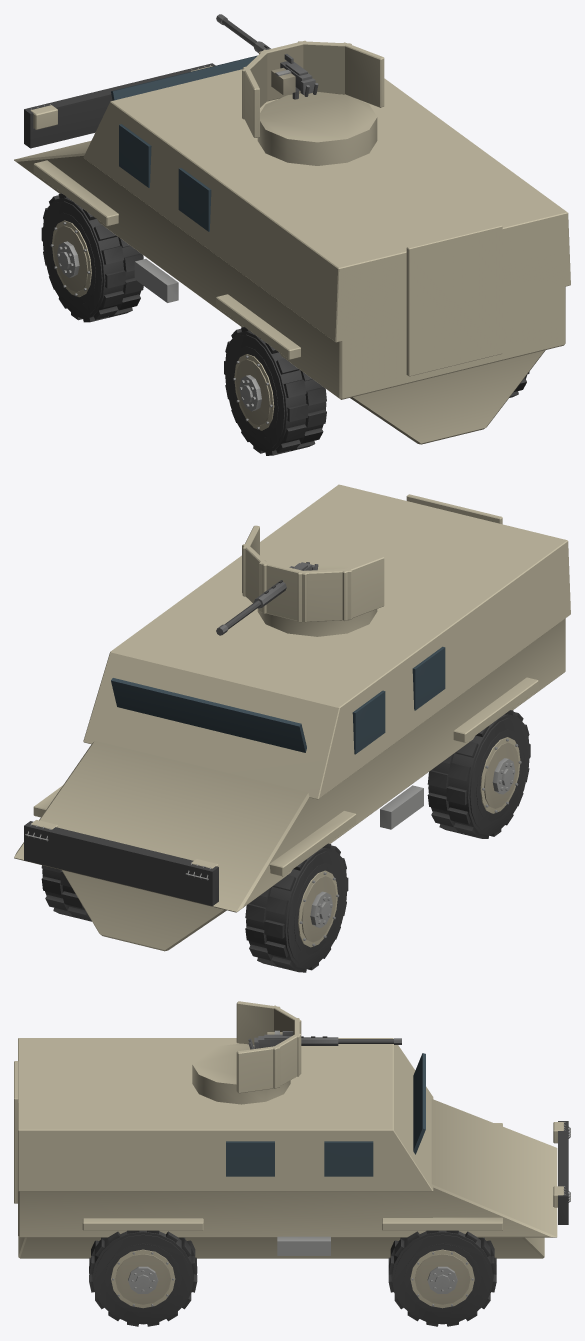
The model's file is usa_mrap_rg33.glb.
3 renders of one model, top to bottom at view 1: azimuth 30°, elevation 25°; view 2: azimuth 150°, elevation 25°; view 3: azimuth 270°, elevation 25°, orthographic. The views are drawn at different scales.
Parts seen in each view (by area): view 1: body, turret, wheel_2, wheel_0, barrel; view 2: body, turret, wheel_0, wheel_2, wheel_1, barrel; view 3: body, wheel_1, wheel_3, turret, barrel.
Boxes of the visible parts, x1,y1,x2,y2 form: body: (14, 55, 570, 444); turret: (242, 40, 384, 165); wheel_2: (224, 327, 326, 455); wheel_0: (41, 193, 143, 322); barrel: (216, 14, 318, 99); body: (14, 484, 570, 951); turret: (242, 525, 384, 636); wheel_0: (245, 843, 348, 972); wheel_2: (427, 710, 530, 838); wheel_1: (41, 865, 91, 921); barrel: (216, 562, 318, 635); body: (14, 1038, 570, 1258); wheel_1: (388, 1230, 496, 1326); wheel_3: (89, 1230, 197, 1326); turret: (192, 1001, 301, 1104); barrel: (248, 1030, 401, 1049).
Bounding box in the file's own units: 2.78 × 3.1 × 6.23.
